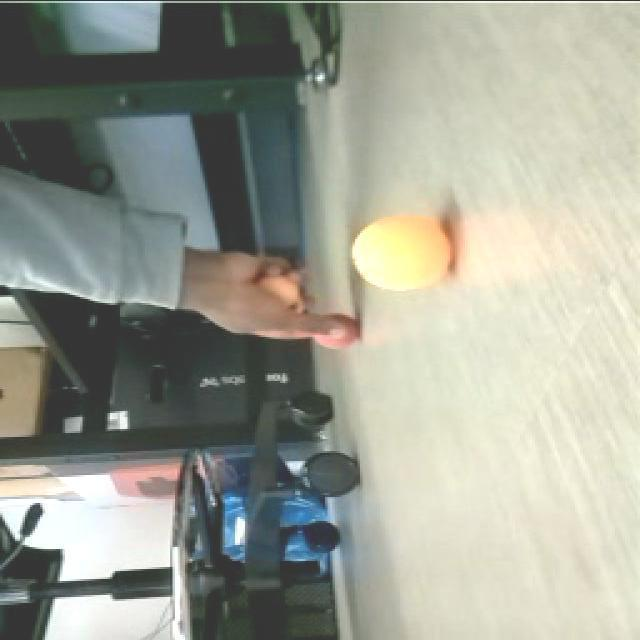ping-pong-ball: (343, 208, 467, 292), (310, 313, 359, 348), (258, 274, 304, 306)
